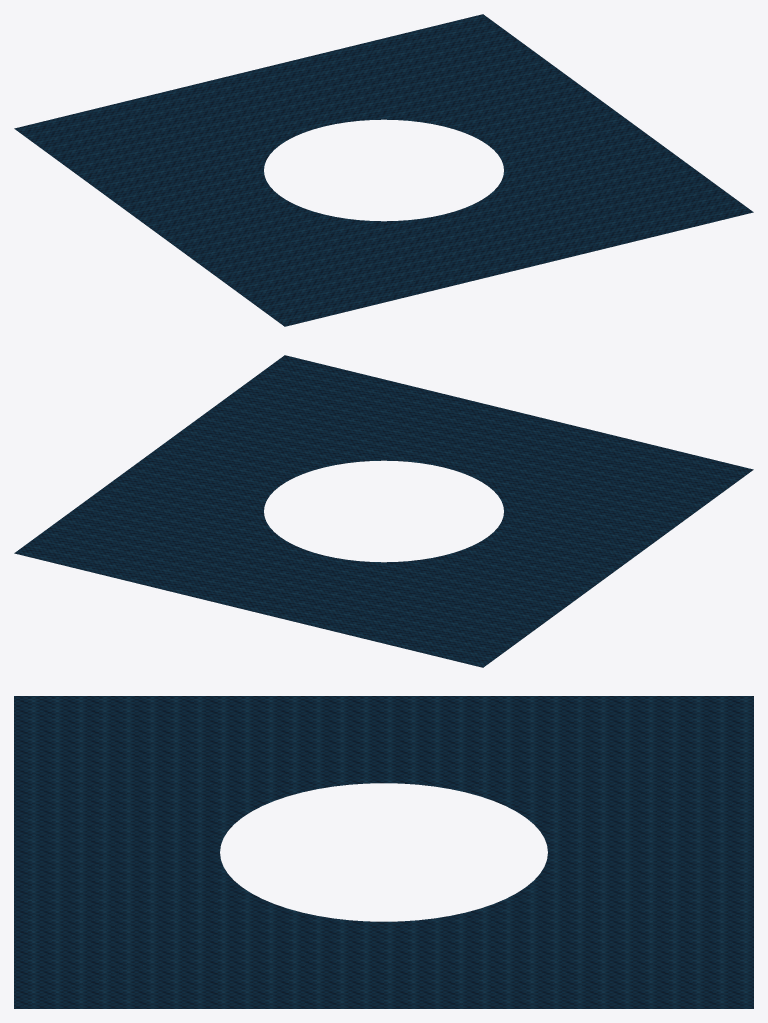
The model's file is INV_CenterPiece_Floor_01.fbx.
The picture shows the model from 3 angles, top to bottom: view 1: azimuth 30°, elevation 25°; view 2: azimuth 150°, elevation 25°; view 3: azimuth 270°, elevation 25°; orthographic projection. The views are drawn at different scales.
Visible parts, largest first — view 1: INV_CenterPiece_Floor_01; view 2: INV_CenterPiece_Floor_01; view 3: INV_CenterPiece_Floor_01.
Part boxes in pixels (x1,y1,x2,y2): INV_CenterPiece_Floor_01: (14, 14, 753, 326); INV_CenterPiece_Floor_01: (14, 355, 753, 667); INV_CenterPiece_Floor_01: (14, 696, 753, 1008).
Bounding box in the file's own units: 5600 × 0 × 5600.
